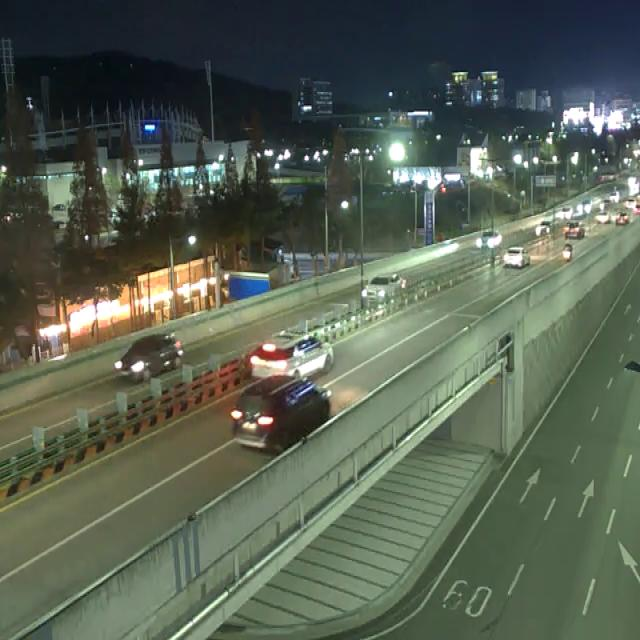Car: (231, 375, 332, 454), (251, 330, 334, 381), (114, 330, 184, 384), (361, 273, 407, 304), (503, 248, 530, 268), (476, 231, 503, 249), (564, 221, 586, 239), (536, 220, 554, 237), (558, 206, 574, 220), (578, 199, 593, 213), (596, 211, 611, 224), (616, 211, 628, 226)
